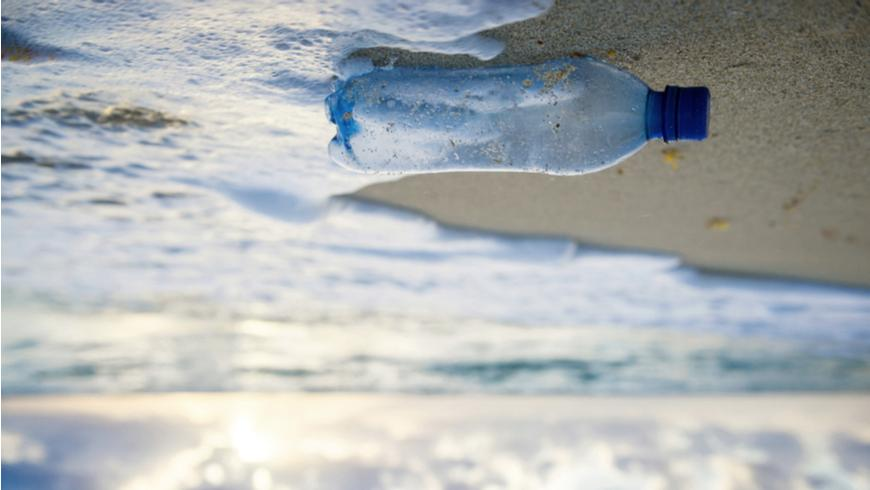Plastic: (318, 49, 721, 180)
